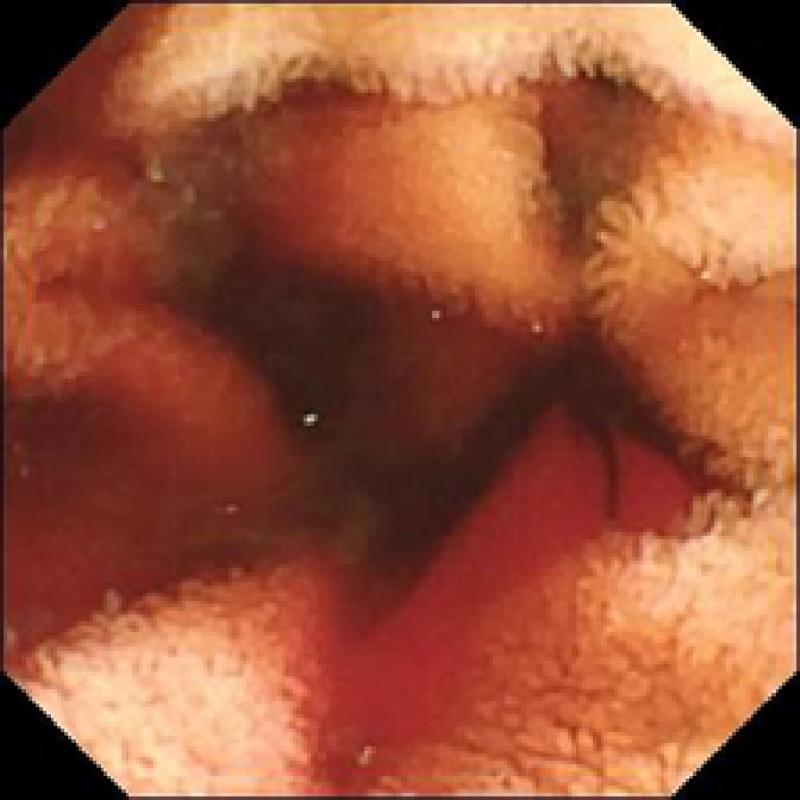bleeding: (307, 407, 682, 750), (4, 429, 246, 640)
